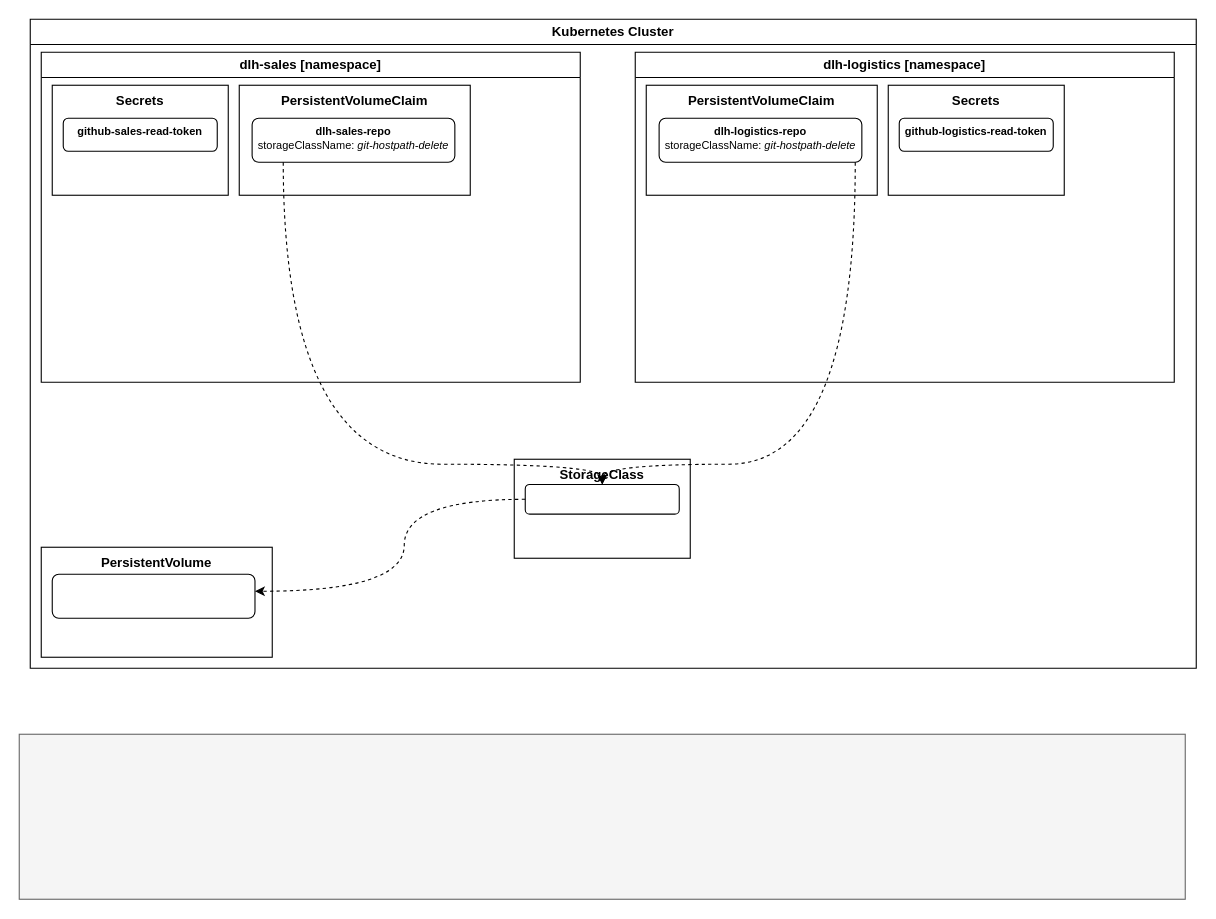
The diagram is 1216 pixels wide and 919 high, and some of its shapes have lost their labels. The centre of each missing label's shape, as x and y in pixels:
"git-hostpath-delete" belongs at [601,498].
"git-shared-volume storageClassName: git-hostpath-delete" belongs at [153,595].
"Problemy -" belongs at [601,816].
